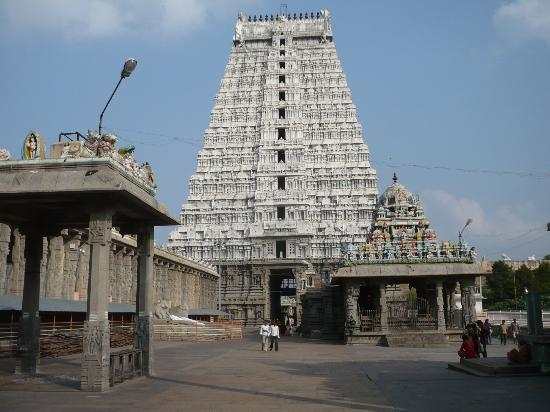Temple: (182, 7, 383, 272)
